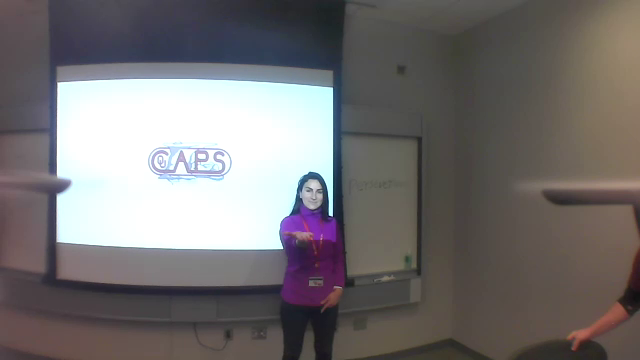land: (283, 225, 320, 245)
